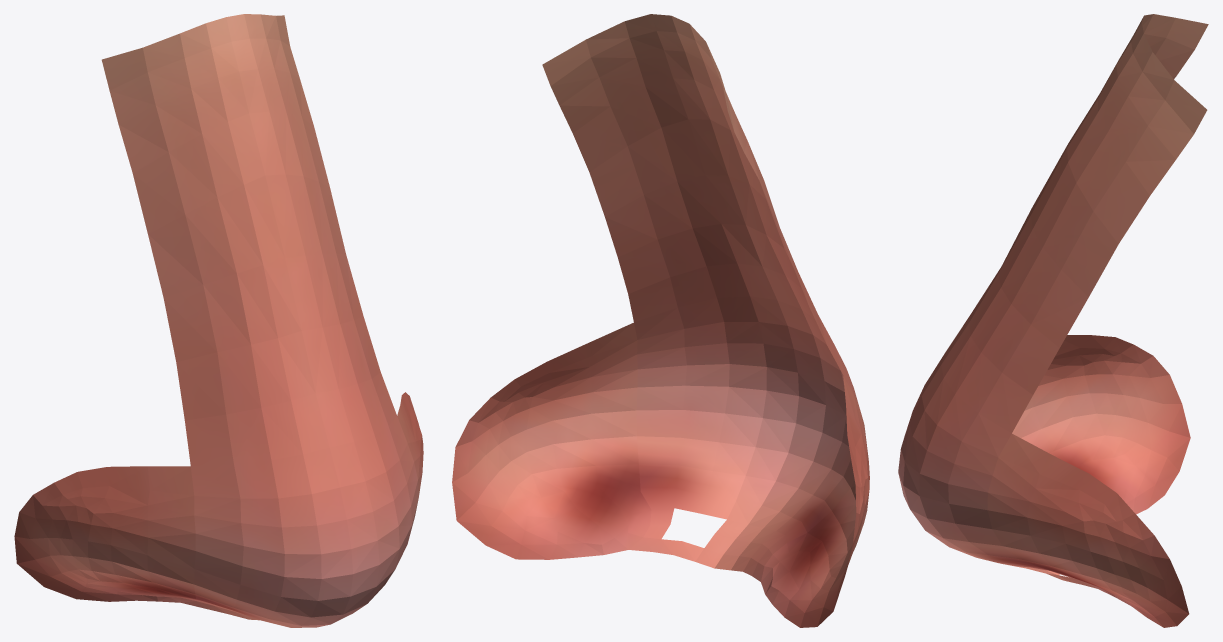
Rendered from euro-fem-nose-tilt-down.obj.
3 views of the same model, side by side, from view 1: azimuth 30°, elevation 25°; view 2: azimuth 150°, elevation 25°; view 3: azimuth 270°, elevation 25° (orthographic). The views are drawn at different scales.
Visible parts, largest first — view 1: euro-fem-nose-tilt-down.001; view 2: euro-fem-nose-tilt-down.001; view 3: euro-fem-nose-tilt-down.001.
Boxes of the visible parts, left/top/right/bottom form: euro-fem-nose-tilt-down.001: left=14, top=14, right=423, bottom=627; euro-fem-nose-tilt-down.001: left=452, top=14, right=869, bottom=627; euro-fem-nose-tilt-down.001: left=898, top=14, right=1208, bottom=627.
Bounding box in the file's own units: 0.3228 × 0.4538 × 0.2309.
1 material, 1 textured.
